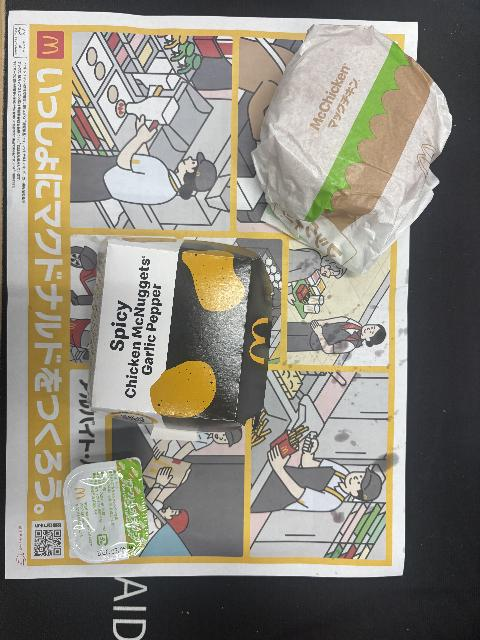burger: (251, 22, 454, 276)
nuggets: (90, 237, 271, 430)
sauce: (65, 454, 148, 564)
